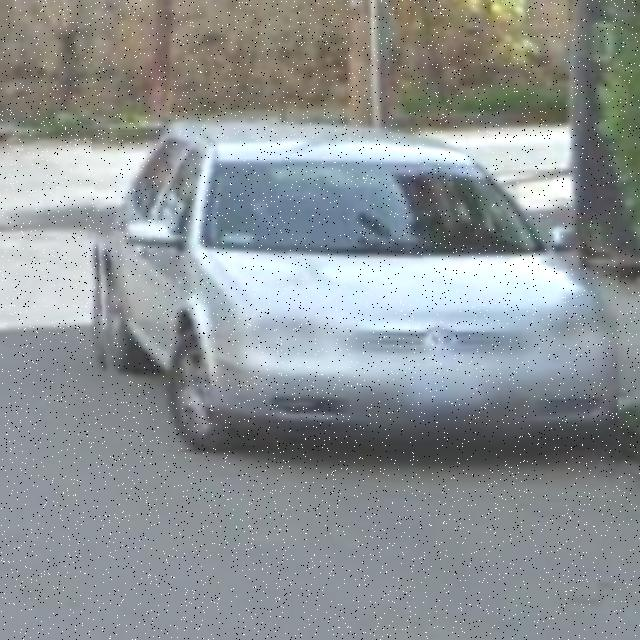car: (91, 129, 619, 451)
